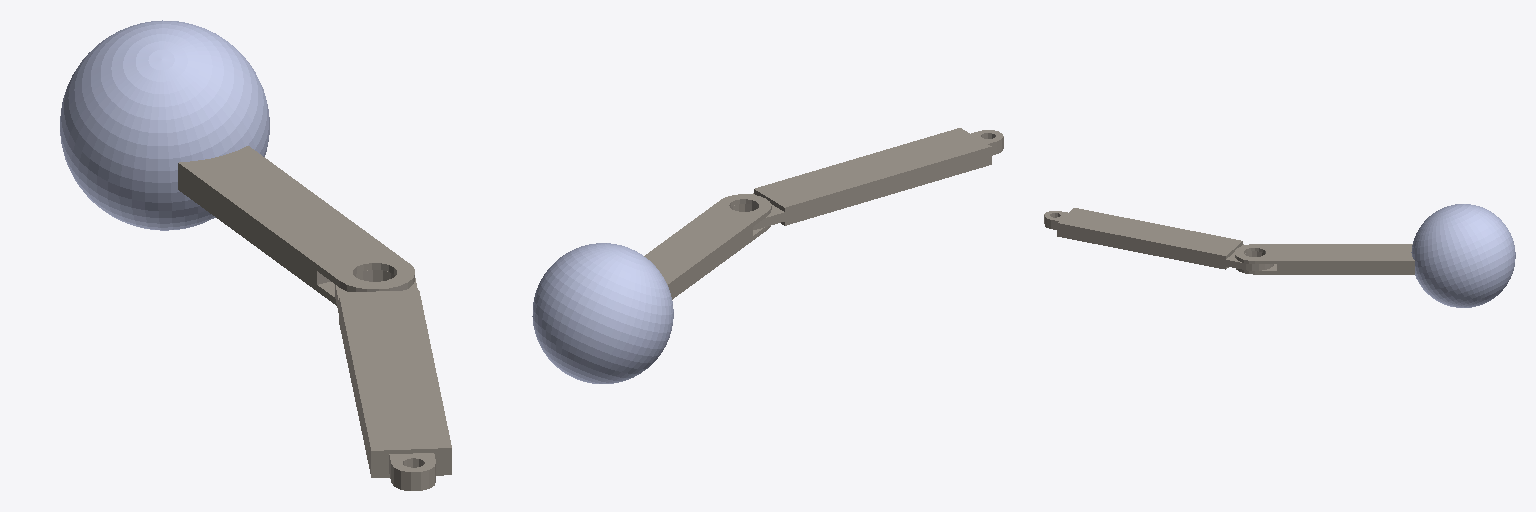
The robot description file, URDF, robot "Robot_Arm_Right":
<?xml version="1.0" encoding="utf-8"?>
<!-- This URDF was automatically created by SolidWorks to URDF Exporter! Originally created by [author] ([email redacted]) 
     Commit Version: 1.6.0-4-g7f85cfe  Build Version: 1.6.7995.38578
     For more information, please see http://wiki.ros.org/sw_urdf_exporter -->
<robot
  name="Robot_Arm_Right">
  <link
    name="shoulder">
    <inertial>
      <origin
        xyz="0 0 0"
        rpy="0 0 0" />
      <mass
        value="1.4368" />
      <inertia
        ixx="0.002816"
        ixy="-2.1684E-19"
        ixz="-4.8704E-21"
        iyy="0.002816"
        iyz="7.4962E-20"
        izz="0.002816" />
    </inertial>
    <visual>
      <origin
        xyz="0 0 0"
        rpy="0 0 0" />
      <geometry>
        <mesh
          filename="package://Robot_Arm_Right/meshes/shoulder.STL" />
      </geometry>
      <material
        name="">
        <color
          rgba="0.79216 0.81961 0.93333 1" />
      </material>
    </visual>
    <collision>
      <origin
        xyz="0 0 0"
        rpy="0 0 0" />
      <geometry>
        <mesh
          filename="package://Robot_Arm_Right/meshes/shoulder.STL" />
      </geometry>
    </collision>
  </link>
  <link
    name="upperarm">
    <inertial>
      <origin
        xyz="4.3132E-13 -0.16988 -0.0048992"
        rpy="0 0 0" />
      <mass
        value="0.2169" />
      <inertia
        ixx="0.00080289"
        ixy="1.6167E-15"
        ixz="-7.7979E-18"
        iyy="6.1453E-05"
        iyz="2.9044E-15"
        izz="0.00084885" />
    </inertial>
    <visual>
      <origin
        xyz="0 0 0"
        rpy="0 0 0" />
      <geometry>
        <mesh
          filename="package://Robot_Arm_Right/meshes/upperarm.STL" />
      </geometry>
      <material
        name="">
        <color
          rgba="0.64706 0.61961 0.58824 1" />
      </material>
    </visual>
    <collision>
      <origin
        xyz="0 0 0"
        rpy="0 0 0" />
      <geometry>
        <mesh
          filename="package://Robot_Arm_Right/meshes/upperarm.STL" />
      </geometry>
    </collision>
  </link>
  <joint
    name="upperarm joint"
    type="revolute">
    <origin
      xyz="0 0 0"
      rpy="0 0 0" />
    <parent
      link="shoulder" />
    <child
      link="upperarm" />
    <axis
      xyz="0.82931 -0.55878 0.00065727" />
    <limit
      lower="-20"
      upper="20"
      effort="15"
      velocity="135" />
  </joint>
  <link
    name="forearm">
    <inertial>
      <origin
        xyz="-0.062822 -0.41467 -0.0048992"
        rpy="0 0 0" />
      <mass
        value="0.29936" />
      <inertia
        ixx="0.0016896"
        ixy="-0.00074924"
        ixz="2.6949E-15"
        iyy="0.00043031"
        iyz="6.0384E-15"
        izz="0.0021012" />
    </inertial>
    <visual>
      <origin
        xyz="0 0 0"
        rpy="0 0 0" />
      <geometry>
        <mesh
          filename="package://Robot_Arm_Right/meshes/forearm.STL" />
      </geometry>
      <material
        name="">
        <color
          rgba="0.64706 0.61961 0.58824 1" />
      </material>
    </visual>
    <collision>
      <origin
        xyz="0 0 0"
        rpy="0 0 0" />
      <geometry>
        <mesh
          filename="package://Robot_Arm_Right/meshes/forearm.STL" />
      </geometry>
    </collision>
  </link>
  <joint
    name="forearm_joint"
    type="revolute">
    <origin
      xyz="0 0 0"
      rpy="0 0 0" />
    <parent
      link="upperarm" />
    <child
      link="forearm" />
    <axis
      xyz="0 0 1" />
    <limit
      lower="-20"
      upper="20"
      effort="15"
      velocity="135" />
  </joint>
</robot>

--- What the picture shows (computed from the rendered views, not written in the file) ---
Views: 3 orthographic renders of the robot side by side, from view 1: azimuth 30°, elevation 25°; view 2: azimuth 150°, elevation 25°; view 3: azimuth 270°, elevation 25°.
Model Robot_Arm_Right with 3 links and 2 joints (2 revolute), rooted at shoulder, posed every joint at zero.
Visible links, largest first — view 1: shoulder, forearm, upperarm; view 2: shoulder, forearm, upperarm; view 3: shoulder, forearm, upperarm.
Link boxes in pixels (x1,y1,x2,y2): shoulder: (60, 20, 269, 230); forearm: (335, 270, 451, 490); upperarm: (178, 146, 414, 305); shoulder: (532, 243, 673, 383); forearm: (731, 128, 1003, 229); upperarm: (644, 194, 771, 299); shoulder: (1411, 204, 1515, 307); forearm: (1044, 208, 1273, 270); upperarm: (1235, 244, 1414, 274).
Size in the robot's own frame: 0.2125 by 0.6316 by 0.1398 metres.
3 mesh visuals loaded from 3 distinct referenced files (3 binary STL).